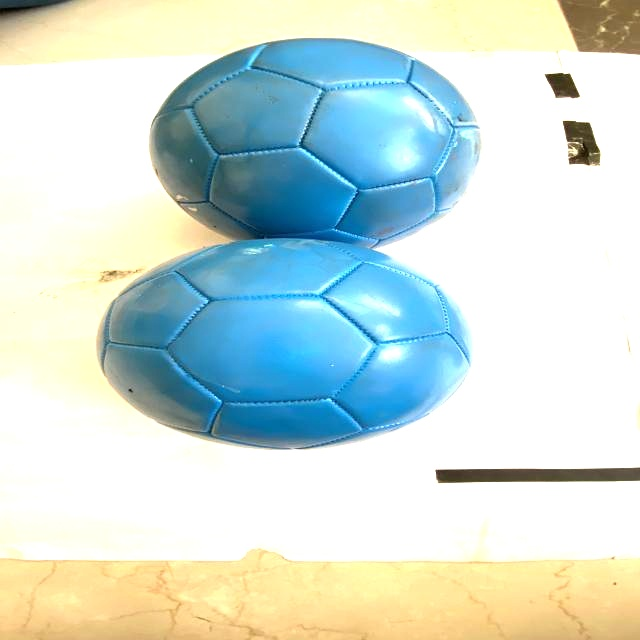blue_ball: (95, 238, 472, 446), (143, 38, 482, 241)
